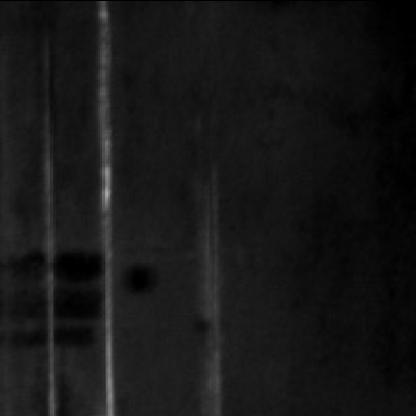inclusion: (4, 243, 114, 360)
scratches: (85, 2, 125, 412), (31, 48, 69, 414), (181, 172, 229, 406)
